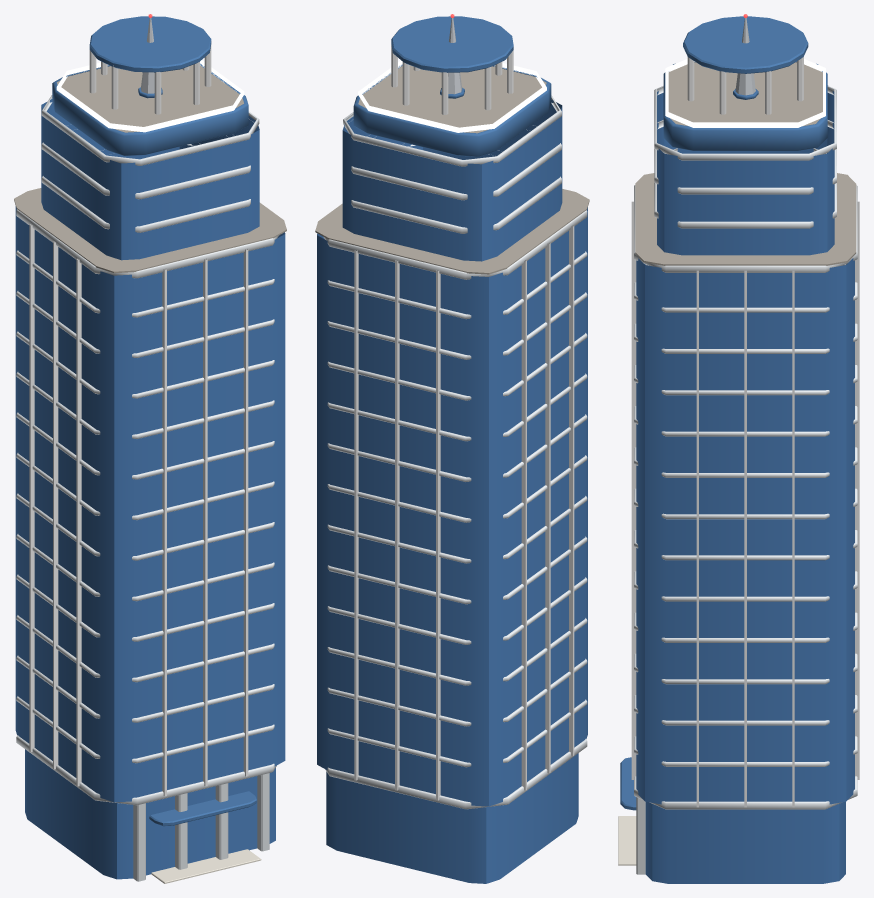
Rendered from bld_office.glb.
The picture shows the model from 3 angles, left to right: view 1: azimuth 30°, elevation 25°; view 2: azimuth 150°, elevation 25°; view 3: azimuth 270°, elevation 25°; orthographic projection.
Visible parts, largest first — view 1: body; view 2: body; view 3: body.
Boxes of the visible parts, box(x1,y1,x2,y2) form: body: box(14, 14, 286, 883); body: box(315, 14, 589, 883); body: box(618, 14, 859, 883).
Bounding box in the file's own units: 20.04 × 80.2 × 21.22.
